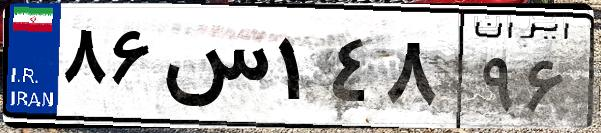1: (270, 28, 330, 110)
4: (330, 28, 385, 110)
6: (525, 38, 570, 115), (110, 28, 158, 98)
8: (385, 28, 445, 110), (57, 26, 110, 100)
9: (475, 38, 525, 113)
س: (158, 20, 270, 120)
